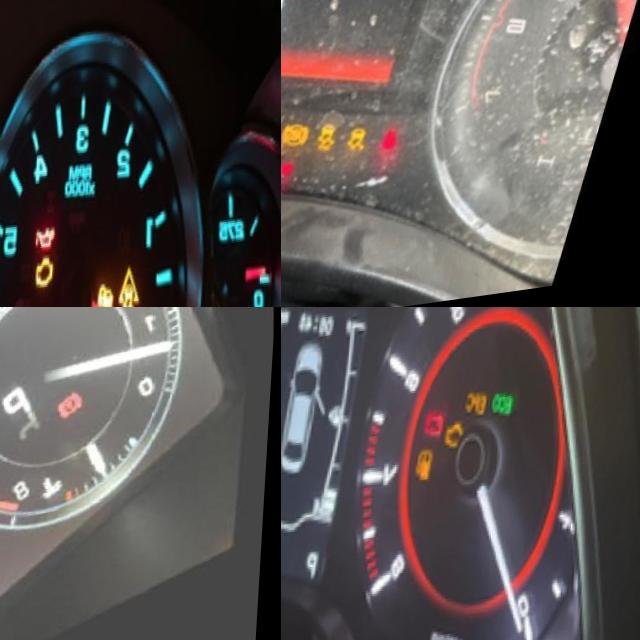Engine cooling system: (48, 482, 83, 519)
